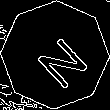N_NW: (23, 23, 87, 87)
